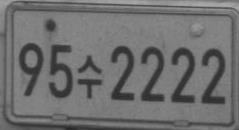2: (200, 47, 226, 104), (139, 45, 165, 101), (170, 47, 196, 103), (110, 45, 135, 100)
5: (48, 43, 74, 99)
9: (17, 42, 44, 97)
수: (76, 54, 102, 99)
